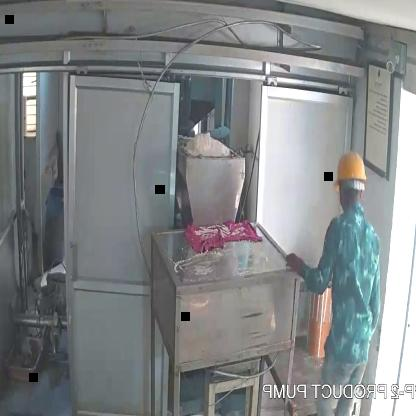helmet: (332, 148, 370, 197)
